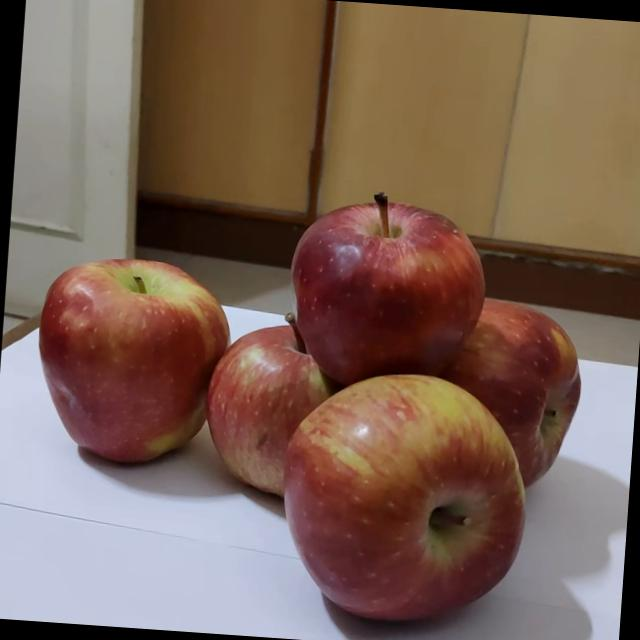apple: (262, 353, 548, 640), (15, 237, 255, 488), (379, 282, 602, 506), (278, 176, 494, 407), (194, 298, 378, 522)
